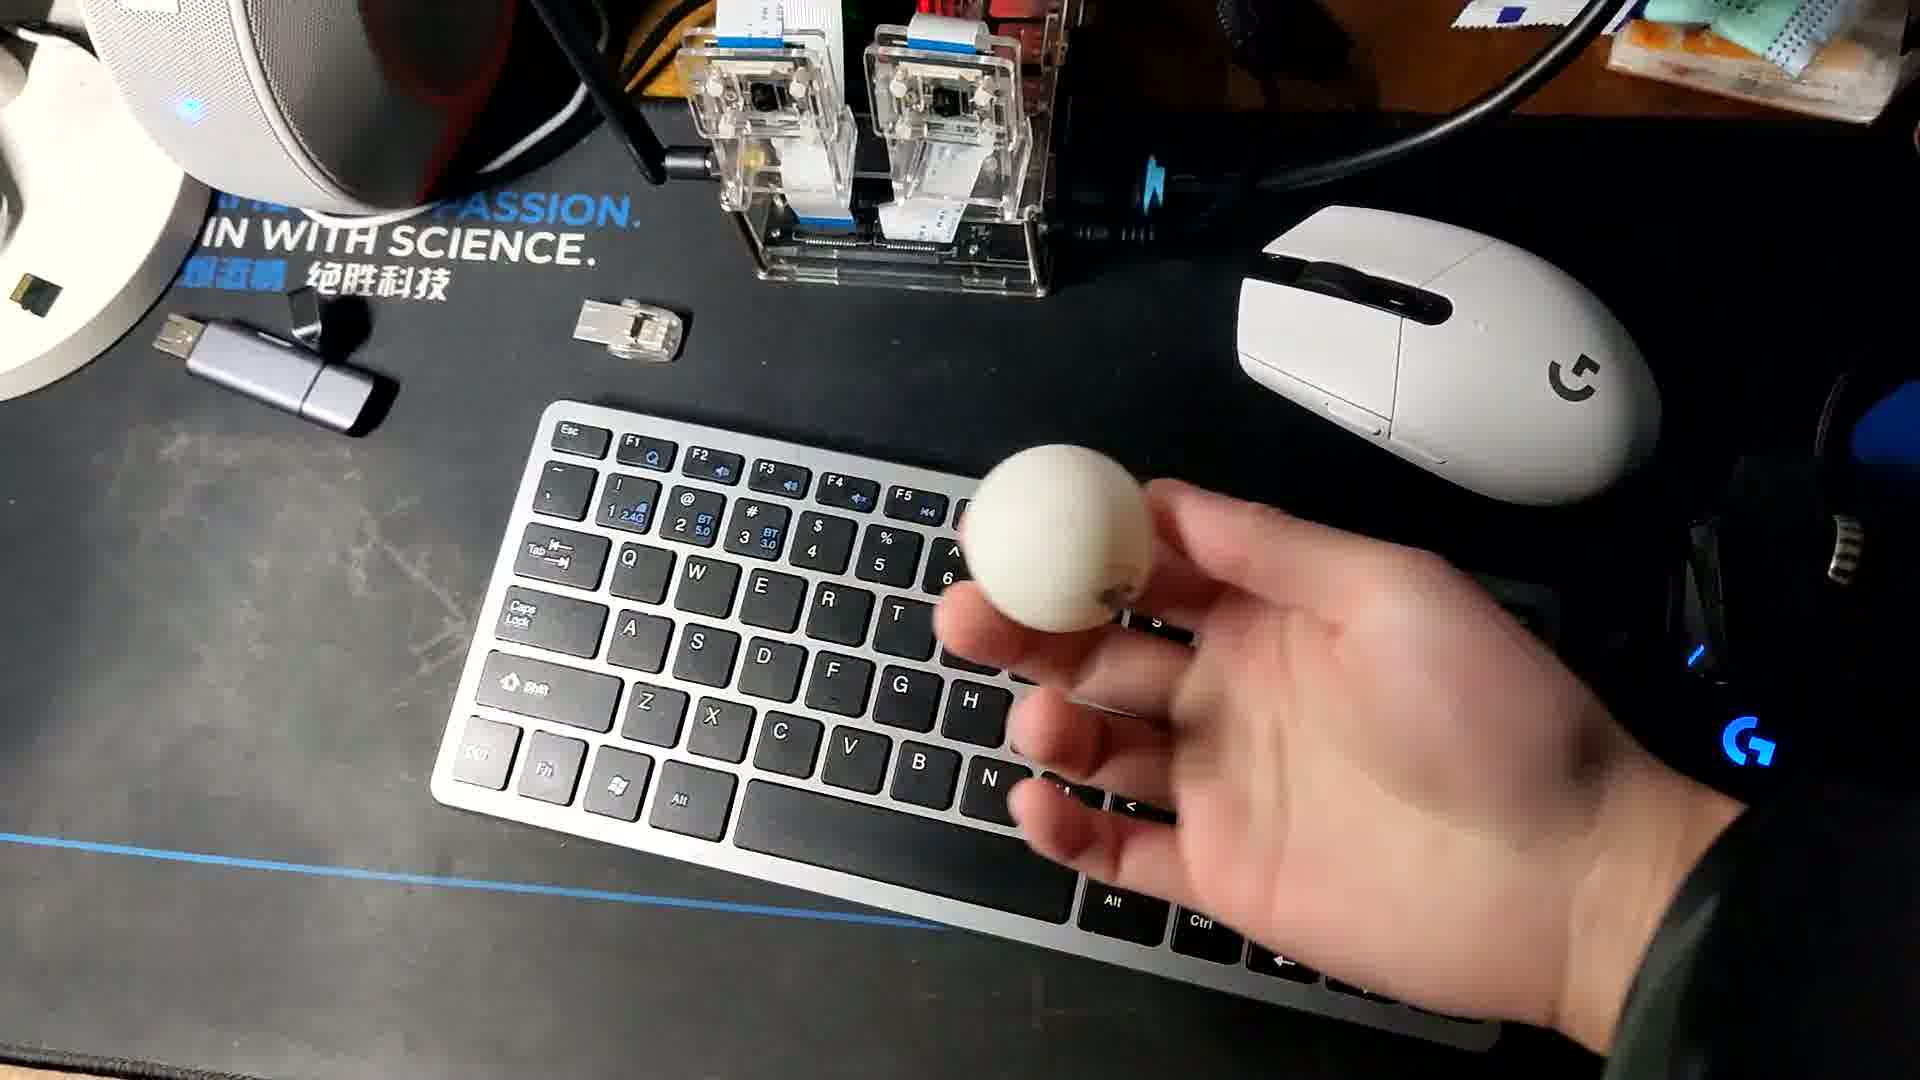Ball: (957, 444, 1149, 632)
